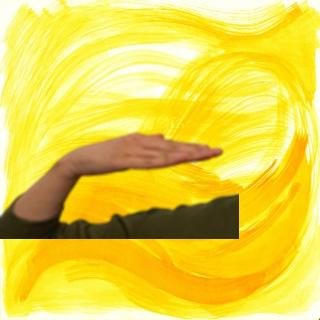WAIT: (57, 125, 230, 181)
